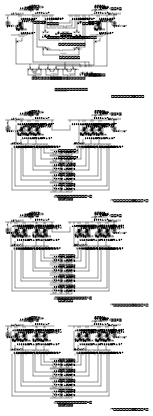corridor: (61, 262, 92, 268), (61, 255, 92, 261)
door: (79, 351, 80, 355)
room: (61, 27, 92, 36), (61, 38, 92, 47), (61, 17, 92, 26), (61, 6, 92, 15), (61, 137, 92, 146), (61, 148, 92, 157), (61, 127, 92, 136), (61, 116, 92, 125), (61, 234, 92, 243), (61, 223, 92, 232), (61, 245, 92, 254), (61, 262, 92, 268), (61, 255, 92, 261), (127, 283, 134, 291), (20, 283, 27, 291), (18, 394, 25, 402), (125, 394, 132, 402), (109, 66, 116, 73), (137, 66, 144, 73), (126, 66, 133, 73), (109, 176, 116, 183), (137, 176, 144, 183), (126, 176, 133, 183), (117, 283, 123, 291), (106, 283, 112, 291), (31, 283, 37, 291), (42, 283, 48, 291), (99, 66, 105, 73), (99, 176, 105, 183), (52, 66, 58, 73), (13, 176, 19, 183), (52, 176, 58, 183), (41, 176, 47, 183), (24, 66, 30, 73), (13, 66, 19, 73), (41, 66, 47, 73), (24, 176, 30, 183)
wall: (106, 67, 108, 68), (134, 67, 136, 68), (123, 67, 125, 68), (113, 285, 115, 286), (103, 285, 105, 286), (124, 285, 126, 286), (106, 177, 108, 178), (134, 177, 136, 178), (123, 177, 125, 178), (96, 67, 97, 68), (96, 177, 97, 178)
window: (20, 283, 27, 291), (125, 394, 132, 402), (18, 394, 25, 402), (31, 283, 37, 291), (42, 283, 48, 291), (24, 66, 30, 73), (13, 66, 19, 73), (52, 66, 58, 73), (41, 66, 47, 73), (24, 176, 30, 183), (13, 176, 19, 183), (52, 176, 58, 183), (41, 176, 47, 183), (66, 28, 69, 31), (84, 28, 87, 31), (75, 28, 78, 31), (75, 21, 78, 24), (66, 21, 69, 24), (84, 21, 87, 24), (66, 138, 69, 141), (84, 138, 87, 141), (75, 138, 78, 141), (75, 131, 78, 134), (66, 131, 69, 134), (84, 131, 87, 134), (66, 224, 69, 227), (84, 224, 87, 227), (75, 224, 78, 227), (75, 263, 78, 266), (66, 263, 69, 266), (84, 263, 87, 266), (66, 256, 69, 259), (84, 256, 87, 259), (75, 256, 78, 259), (66, 249, 69, 252), (84, 249, 87, 252), (75, 249, 78, 252), (34, 86, 37, 88), (75, 43, 78, 45), (66, 43, 69, 45), (84, 43, 87, 45), (66, 39, 69, 41), (84, 39, 87, 41), (75, 39, 78, 41), (66, 32, 69, 34), (84, 32, 87, 34), (75, 32, 78, 34), (66, 18, 69, 20), (84, 18, 87, 20), (75, 18, 78, 20), (66, 11, 69, 13), (84, 11, 87, 13), (75, 11, 78, 13), (66, 7, 69, 9), (84, 7, 87, 9), (75, 7, 78, 9), (34, 196, 37, 198), (75, 153, 78, 155), (66, 153, 69, 155), (84, 153, 87, 155), (66, 149, 69, 151), (84, 149, 87, 151), (75, 149, 78, 151), (66, 142, 69, 144), (84, 142, 87, 144), (75, 142, 78, 144), (66, 128, 69, 130), (84, 128, 87, 130), (75, 128, 78, 130), (66, 121, 69, 123), (84, 121, 87, 123), (75, 121, 78, 123), (66, 117, 69, 119), (84, 117, 87, 119), (75, 117, 78, 119), (75, 239, 78, 241), (66, 239, 69, 241), (84, 239, 87, 241), (66, 235, 69, 237), (84, 235, 87, 237), (75, 235, 78, 237), (66, 228, 69, 230), (84, 228, 87, 230), (75, 228, 78, 230), (66, 246, 69, 248), (84, 246, 87, 248), (75, 246, 78, 248), (33, 86, 35, 88), (122, 86, 124, 88), (124, 86, 126, 88), (33, 196, 35, 198), (122, 196, 124, 198), (124, 196, 126, 198), (34, 415, 37, 416), (39, 344, 42, 345), (39, 349, 42, 350), (34, 304, 37, 305), (13, 70, 15, 71), (10, 67, 12, 68), (48, 67, 50, 68), (41, 70, 43, 71), (33, 415, 35, 416), (122, 415, 124, 416), (124, 415, 126, 416), (33, 304, 35, 305), (122, 304, 124, 305), (124, 304, 126, 305), (31, 289, 33, 290), (31, 287, 33, 288), (28, 285, 30, 286), (17, 285, 19, 286), (106, 289, 108, 290), (106, 287, 108, 288), (38, 285, 40, 286), (13, 182, 15, 183), (13, 180, 15, 181), (10, 177, 12, 178), (48, 177, 50, 178), (41, 182, 43, 183), (41, 180, 43, 181), (122, 396, 124, 397), (15, 396, 17, 397), (123, 86, 124, 87), (24, 70, 25, 71), (21, 67, 22, 68), (26, 68, 27, 69), (24, 68, 25, 69), (14, 70, 15, 71), (15, 68, 16, 69), (17, 68, 18, 69), (14, 68, 15, 69), (52, 70, 53, 71), (54, 68, 55, 69), (55, 68, 56, 69), (52, 68, 53, 69), (38, 67, 39, 68), (43, 68, 44, 69), (45, 68, 46, 69), (110, 70, 111, 71), (112, 68, 113, 69), (113, 68, 114, 69), (110, 68, 111, 69), (99, 70, 100, 71), (101, 68, 102, 69), (99, 68, 100, 69), (138, 70, 139, 71), (141, 68, 142, 69), (138, 68, 139, 69), (127, 70, 128, 71), (129, 68, 130, 69), (130, 68, 131, 69), (127, 68, 128, 69), (123, 414, 124, 415), (28, 415, 29, 416), (130, 415, 131, 416), (81, 396, 82, 397), (100, 391, 101, 392), (95, 391, 96, 392), (84, 391, 85, 392), (79, 391, 80, 392), (57, 391, 58, 392), (52, 391, 53, 392), (55, 352, 56, 353), (72, 352, 73, 353), (67, 352, 68, 353), (84, 352, 85, 353), (79, 352, 80, 353), (90, 352, 91, 353), (37, 352, 38, 353), (43, 352, 44, 353), (123, 303, 124, 304), (28, 304, 29, 305), (130, 304, 131, 305), (32, 287, 33, 288), (28, 287, 29, 288), (34, 289, 35, 290), (36, 289, 37, 290), (21, 289, 22, 290), (21, 287, 22, 288), (23, 289, 24, 290), (25, 289, 26, 290), (117, 289, 118, 290), (117, 287, 118, 288), (118, 287, 119, 288), (114, 287, 115, 288), (120, 289, 121, 290), (107, 287, 108, 288), (103, 287, 104, 288), (109, 289, 110, 290), (111, 289, 112, 290), (42, 289, 43, 290), (42, 287, 43, 288), (43, 287, 44, 288), (39, 287, 40, 288), (45, 289, 46, 290), (128, 289, 129, 290), (128, 287, 129, 288), (130, 289, 131, 290), (132, 289, 133, 290), (123, 196, 124, 197), (28, 197, 29, 198), (130, 197, 131, 198), (24, 182, 25, 183), (24, 180, 25, 181), (21, 177, 22, 178), (24, 178, 25, 179), (14, 182, 15, 183), (14, 180, 15, 181), (14, 178, 15, 179), (52, 182, 53, 183), (52, 180, 53, 181), (52, 178, 53, 179), (38, 177, 39, 178), (110, 182, 111, 183), (110, 180, 111, 181), (110, 178, 111, 179), (99, 182, 100, 183), (99, 180, 100, 181), (99, 178, 100, 179), (138, 182, 139, 183), (138, 180, 139, 181), (138, 178, 139, 179), (127, 182, 128, 183), (127, 180, 128, 181), (127, 178, 128, 179), (126, 400, 127, 401), (126, 398, 127, 399), (122, 398, 123, 399), (128, 400, 129, 401), (130, 400, 131, 401), (122, 382, 123, 383), (19, 400, 20, 401), (19, 398, 20, 399), (21, 400, 22, 401), (23, 400, 24, 401), (15, 382, 16, 383), (110, 355, 111, 356), (93, 355, 94, 356), (81, 355, 82, 356), (3, 406, 4, 407), (3, 295, 4, 296), (3, 188, 4, 189), (3, 185, 4, 186), (3, 78, 4, 79), (3, 75, 4, 76), (149, 75, 150, 76), (149, 185, 150, 186), (35, 86, 35, 87), (28, 87, 29, 87), (30, 87, 30, 87), (26, 87, 26, 87), (130, 87, 131, 87), (128, 87, 128, 87), (132, 87, 132, 87), (24, 72, 25, 72), (25, 72, 26, 72), (25, 70, 26, 70), (21, 70, 22, 70), (26, 68, 26, 69), (28, 68, 28, 69), (27, 72, 28, 72), (29, 72, 30, 72), (13, 72, 15, 72), (14, 72, 15, 72), (14, 70, 15, 70), (10, 70, 11, 70), (16, 68, 16, 69), (17, 68, 17, 69), (16, 72, 17, 72), (18, 72, 19, 72), (52, 72, 53, 72), (53, 72, 54, 72), (53, 70, 54, 70), (49, 70, 50, 70), (54, 68, 54, 69), (56, 68, 56, 69), (55, 72, 56, 72), (57, 72, 57, 72), (41, 72, 43, 72), (42, 72, 42, 72), (42, 72, 43, 72), (42, 70, 42, 71), (42, 70, 43, 70), (38, 70, 39, 70), (44, 68, 44, 69), (45, 68, 45, 69), (42, 68, 42, 69), (44, 72, 45, 72), (46, 72, 47, 72), (110, 72, 111, 72), (111, 72, 111, 72), (111, 70, 111, 70), (107, 70, 108, 70), (112, 68, 112, 69), (114, 68, 114, 69), (112, 72, 113, 72), (114, 72, 115, 72), (99, 72, 100, 72), (100, 72, 101, 72), (100, 70, 101, 70), (96, 70, 97, 70), (101, 68, 101, 69), (103, 68, 103, 69), (102, 72, 103, 72), (104, 72, 105, 72), (138, 72, 139, 72), (138, 70, 139, 70), (134, 70, 135, 70), (140, 68, 140, 69), (141, 68, 141, 69), (140, 72, 141, 72), (142, 72, 143, 72), (127, 72, 128, 72), (128, 72, 129, 72), (128, 70, 129, 70), (124, 70, 125, 70), (129, 68, 129, 69), (131, 68, 131, 69), (130, 72, 130, 72), (132, 72, 132, 72), (35, 414, 35, 415), (30, 415, 30, 416), (26, 415, 26, 416), (128, 415, 128, 416), (132, 415, 132, 416), (83, 396, 83, 397), (98, 393, 98, 394), (55, 393, 55, 394), (55, 375, 55, 376), (57, 374, 58, 374), (52, 374, 53, 374), (98, 375, 98, 376), (100, 374, 101, 374), (95, 374, 96, 374), (58, 354, 59, 354), (61, 352, 61, 353), (70, 354, 70, 354), (82, 354, 82, 354), (93, 354, 94, 354), (96, 352, 96, 353), (34, 354, 35, 354), (32, 352, 32, 353), (46, 354, 47, 354), (49, 352, 49, 353), (58, 357, 59, 357), (108, 357, 109, 357), (115, 357, 115, 357), (81, 357, 82, 357), (102, 357, 103, 357), (35, 303, 35, 304), (30, 304, 30, 305), (26, 304, 26, 305), (128, 304, 128, 305), (132, 304, 132, 305), (32, 289, 32, 290), (32, 289, 33, 289), (32, 288, 32, 288), (33, 286, 34, 286), (34, 286, 34, 286), (35, 286, 36, 286), (35, 286, 35, 286), (32, 286, 32, 286), (21, 289, 22, 289), (21, 288, 22, 288), (18, 287, 18, 288), (23, 286, 23, 286), (25, 286, 25, 286), (24, 286, 25, 286), (21, 286, 22, 286), (118, 289, 119, 289), (117, 288, 118, 288), (119, 286, 119, 286), (119, 286, 120, 286), (121, 286, 121, 286), (120, 286, 121, 286), (117, 286, 118, 286), (122, 289, 122, 290), (107, 289, 107, 290), (107, 289, 108, 289), (107, 288, 107, 288), (108, 286, 109, 286), (109, 286, 109, 286), (110, 286, 111, 286), (110, 286, 110, 286), (107, 286, 107, 286), (43, 289, 44, 289), (42, 288, 43, 288), (44, 286, 44, 286), (44, 286, 45, 286), (46, 286, 46, 286), (42, 286, 43, 286), (47, 289, 47, 290), (128, 289, 129, 289), (128, 288, 129, 288), (125, 287, 125, 288), (130, 286, 130, 286), (132, 286, 132, 286), (131, 286, 132, 286), (128, 286, 129, 286), (35, 196, 35, 197), (30, 197, 30, 197), (26, 197, 26, 197), (128, 197, 128, 197), (132, 197, 132, 197), (25, 182, 26, 182), (25, 180, 26, 180), (21, 180, 22, 180), (26, 179, 26, 179), (26, 179, 27, 179), (28, 179, 28, 179), (27, 182, 28, 182), (29, 182, 30, 182), (14, 182, 15, 182), (14, 180, 15, 180), (10, 180, 11, 180), (15, 179, 16, 179), (16, 179, 16, 179), (17, 179, 18, 179), (17, 179, 17, 179), (16, 182, 17, 182), (18, 182, 19, 182), (53, 182, 54, 182), (53, 180, 54, 180), (49, 180, 50, 180), (54, 179, 54, 179), (54, 179, 55, 179), (56, 179, 56, 179), (55, 179, 56, 179), (55, 182, 56, 182), (57, 182, 57, 182), (42, 182, 42, 183), (42, 182, 43, 182), (42, 180, 42, 181), (42, 180, 43, 180), (38, 180, 39, 180), (43, 179, 44, 179), (44, 179, 44, 179), (45, 179, 46, 179), (45, 179, 45, 179), (42, 178, 42, 179), (44, 182, 45, 182), (46, 182, 47, 182), (111, 182, 111, 182), (111, 180, 111, 180), (107, 180, 108, 180), (112, 179, 112, 179), (112, 179, 113, 179), (114, 179, 114, 179), (113, 179, 114, 179), (112, 182, 113, 182), (114, 182, 115, 182), (100, 182, 101, 182), (100, 180, 101, 180), (96, 180, 97, 180), (101, 179, 101, 179), (101, 179, 102, 179), (103, 179, 103, 179), (102, 182, 103, 182), (104, 182, 105, 182), (138, 182, 139, 182), (138, 180, 139, 180), (134, 180, 135, 180), (140, 179, 140, 179), (141, 179, 142, 179), (141, 179, 141, 179), (140, 182, 141, 182), (142, 182, 143, 182), (128, 182, 129, 182), (128, 180, 129, 180), (124, 180, 125, 180), (129, 179, 129, 179), (129, 179, 130, 179), (131, 179, 131, 179), (130, 179, 131, 179), (130, 182, 130, 182), (132, 182, 132, 182), (126, 400, 127, 400), (126, 399, 127, 399), (128, 397, 128, 397), (130, 397, 130, 397), (129, 397, 130, 397), (126, 397, 127, 397), (129, 383, 130, 383), (19, 400, 20, 400), (19, 399, 20, 399), (16, 398, 16, 399), (21, 397, 21, 397), (23, 397, 23, 397), (22, 397, 23, 397), (19, 397, 20, 397), (22, 383, 23, 383), (117, 355, 117, 356), (81, 359, 82, 359), (3, 404, 4, 404), (3, 401, 3, 401), (149, 406, 149, 407), (149, 404, 150, 404), (149, 401, 149, 401), (148, 401, 149, 401), (3, 293, 4, 293), (3, 290, 3, 290), (149, 295, 149, 296), (149, 293, 150, 293), (149, 290, 149, 290), (148, 290, 149, 290), (3, 183, 3, 183), (3, 73, 3, 73), (149, 78, 149, 79), (149, 73, 149, 73), (148, 73, 149, 73), (149, 188, 149, 189), (149, 183, 149, 183), (148, 183, 149, 183)
